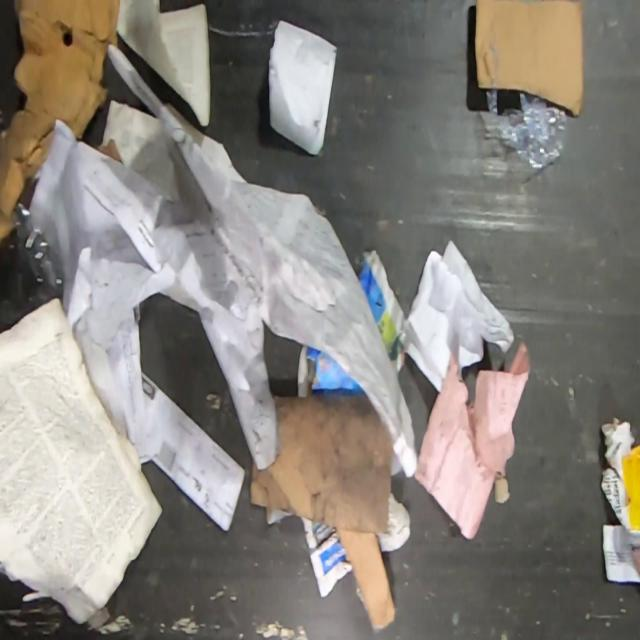cardboard: (250, 392, 395, 629), (0, 0, 123, 240), (474, 0, 587, 117), (600, 416, 640, 610)
rigid_plastic: (0, 200, 66, 336), (486, 91, 567, 176)
